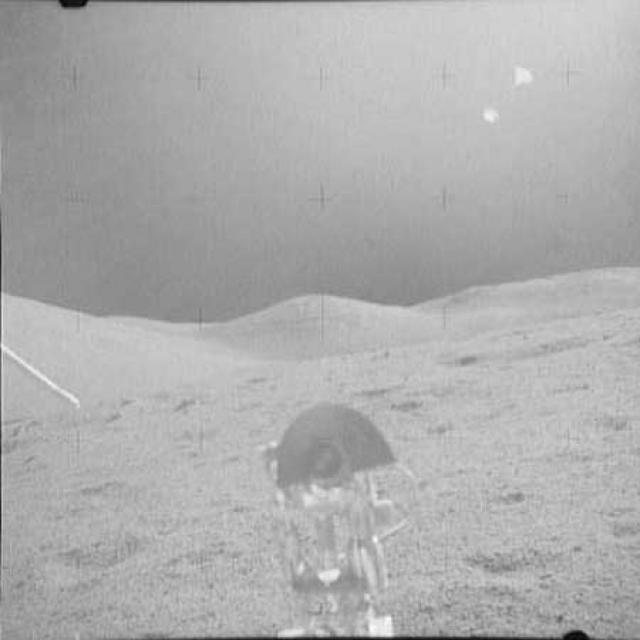artifact: (246, 388, 425, 639), (3, 336, 83, 418)
crater: (428, 331, 618, 364), (17, 534, 152, 580)
